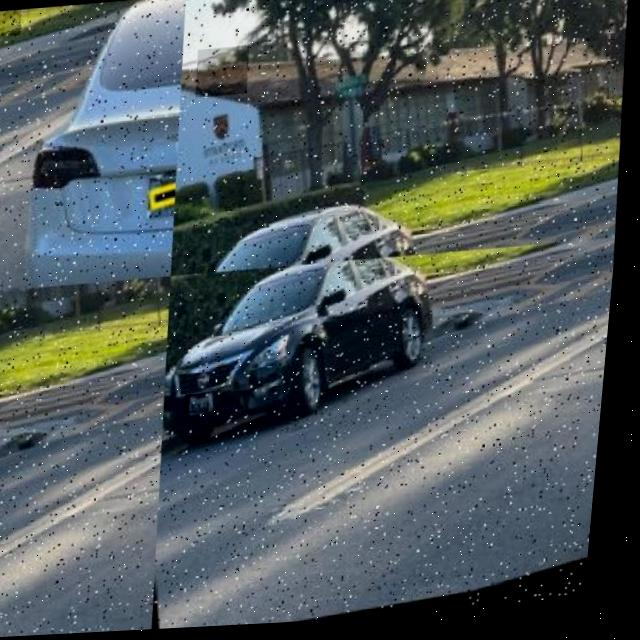LicensePlate: (195, 48, 251, 100), (0, 287, 30, 338), (0, 9, 22, 36), (193, 396, 216, 415)
